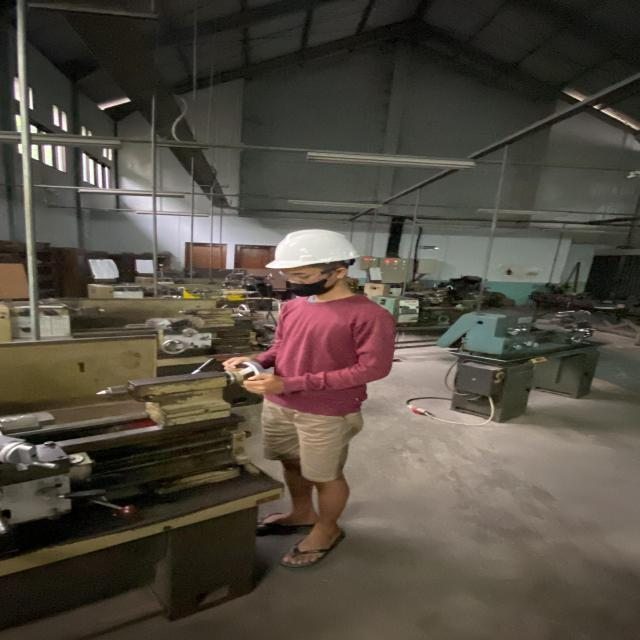glasses: (274, 265, 334, 285)
